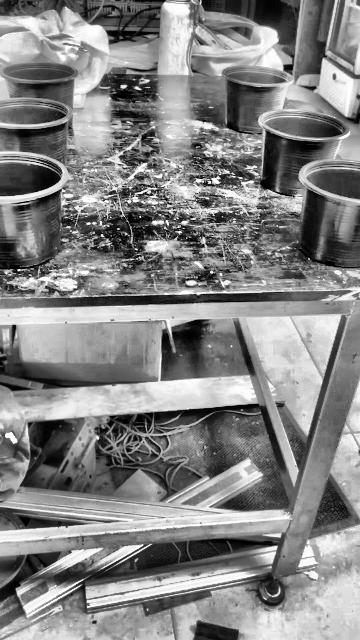pot: (259, 109, 349, 195), (0, 153, 66, 270), (300, 161, 360, 269), (0, 97, 72, 165), (223, 69, 287, 132), (0, 62, 77, 108), (104, 462, 138, 490)
